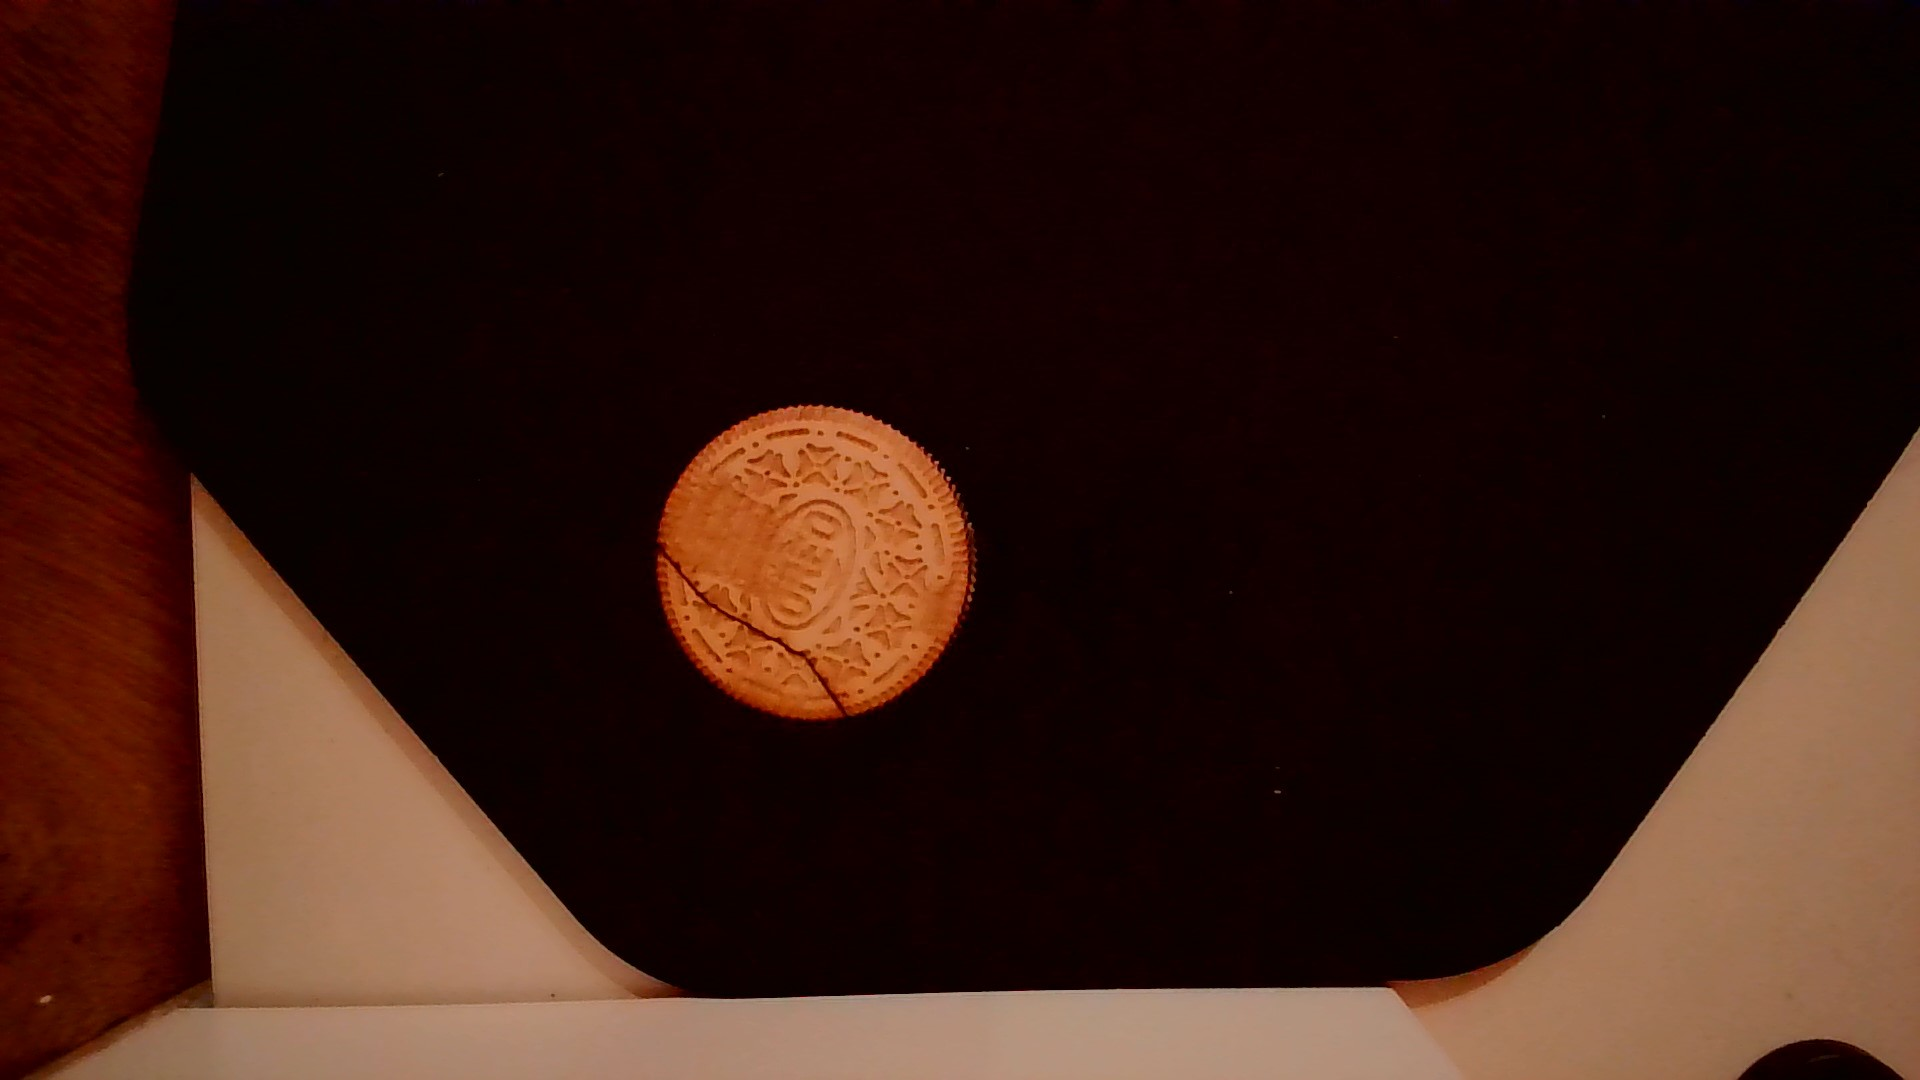Effacé: (673, 473, 778, 556)
Fissure: (647, 542, 853, 720)
Oréo: (644, 389, 982, 724)
